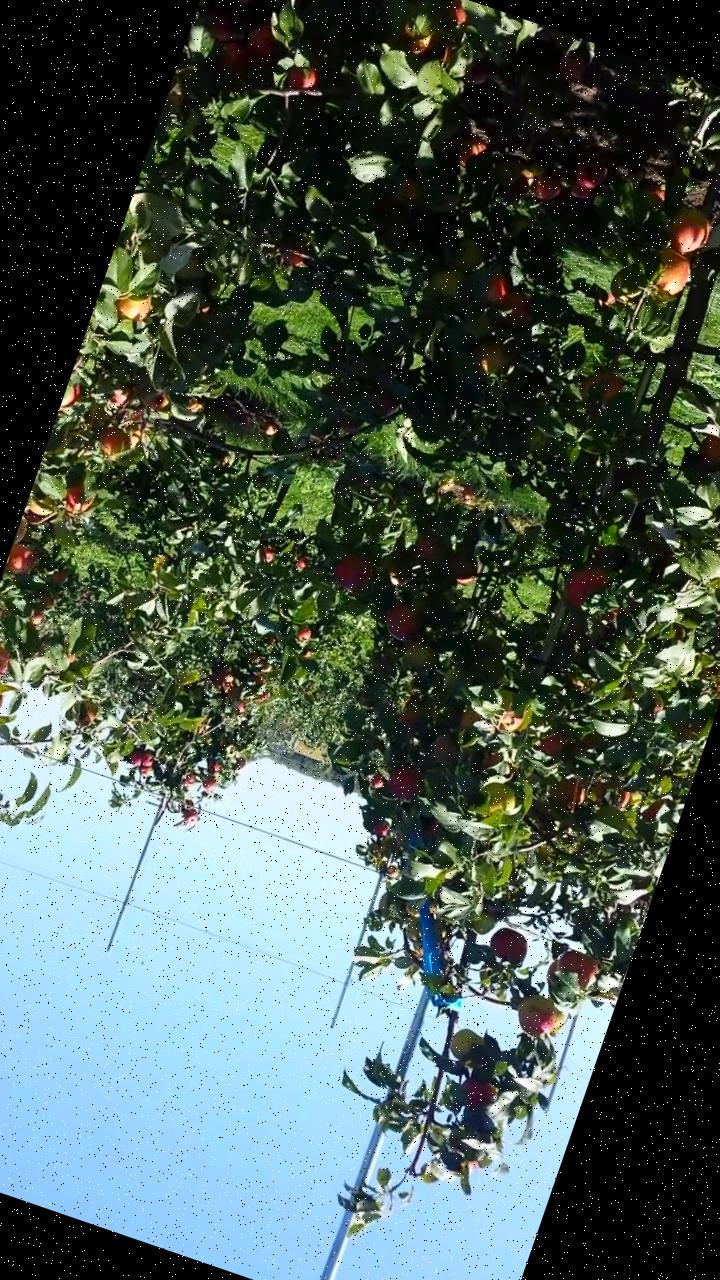Apple: (510, 988, 572, 1046), (544, 946, 606, 1002), (393, 5, 446, 63), (664, 204, 716, 258), (563, 562, 612, 616), (646, 248, 696, 300), (468, 333, 516, 383), (472, 776, 520, 824), (548, 773, 596, 819), (329, 546, 375, 594), (382, 598, 427, 646), (381, 762, 428, 807), (485, 926, 532, 970), (576, 368, 624, 411), (241, 22, 286, 67), (266, 229, 312, 272), (488, 688, 529, 736), (210, 36, 254, 80), (446, 236, 491, 278), (397, 638, 443, 679), (112, 288, 156, 330), (446, 1025, 490, 1066), (458, 1077, 503, 1117), (95, 423, 137, 462), (481, 267, 518, 311), (494, 290, 532, 332), (60, 478, 96, 521), (427, 732, 465, 772), (3, 538, 38, 581), (428, 264, 466, 300), (286, 61, 324, 97), (367, 390, 406, 424), (690, 434, 719, 479), (446, 552, 482, 588), (390, 172, 426, 208), (440, 0, 476, 36), (377, 559, 414, 593), (24, 493, 60, 523), (538, 726, 570, 759), (410, 532, 442, 563), (428, 37, 458, 70), (395, 706, 422, 742), (642, 794, 670, 828), (456, 710, 487, 739), (0, 637, 16, 686), (420, 815, 450, 841), (60, 383, 82, 418), (142, 390, 172, 414), (108, 384, 130, 414), (677, 722, 700, 744), (613, 788, 633, 813), (648, 697, 665, 720), (708, 673, 719, 700)
